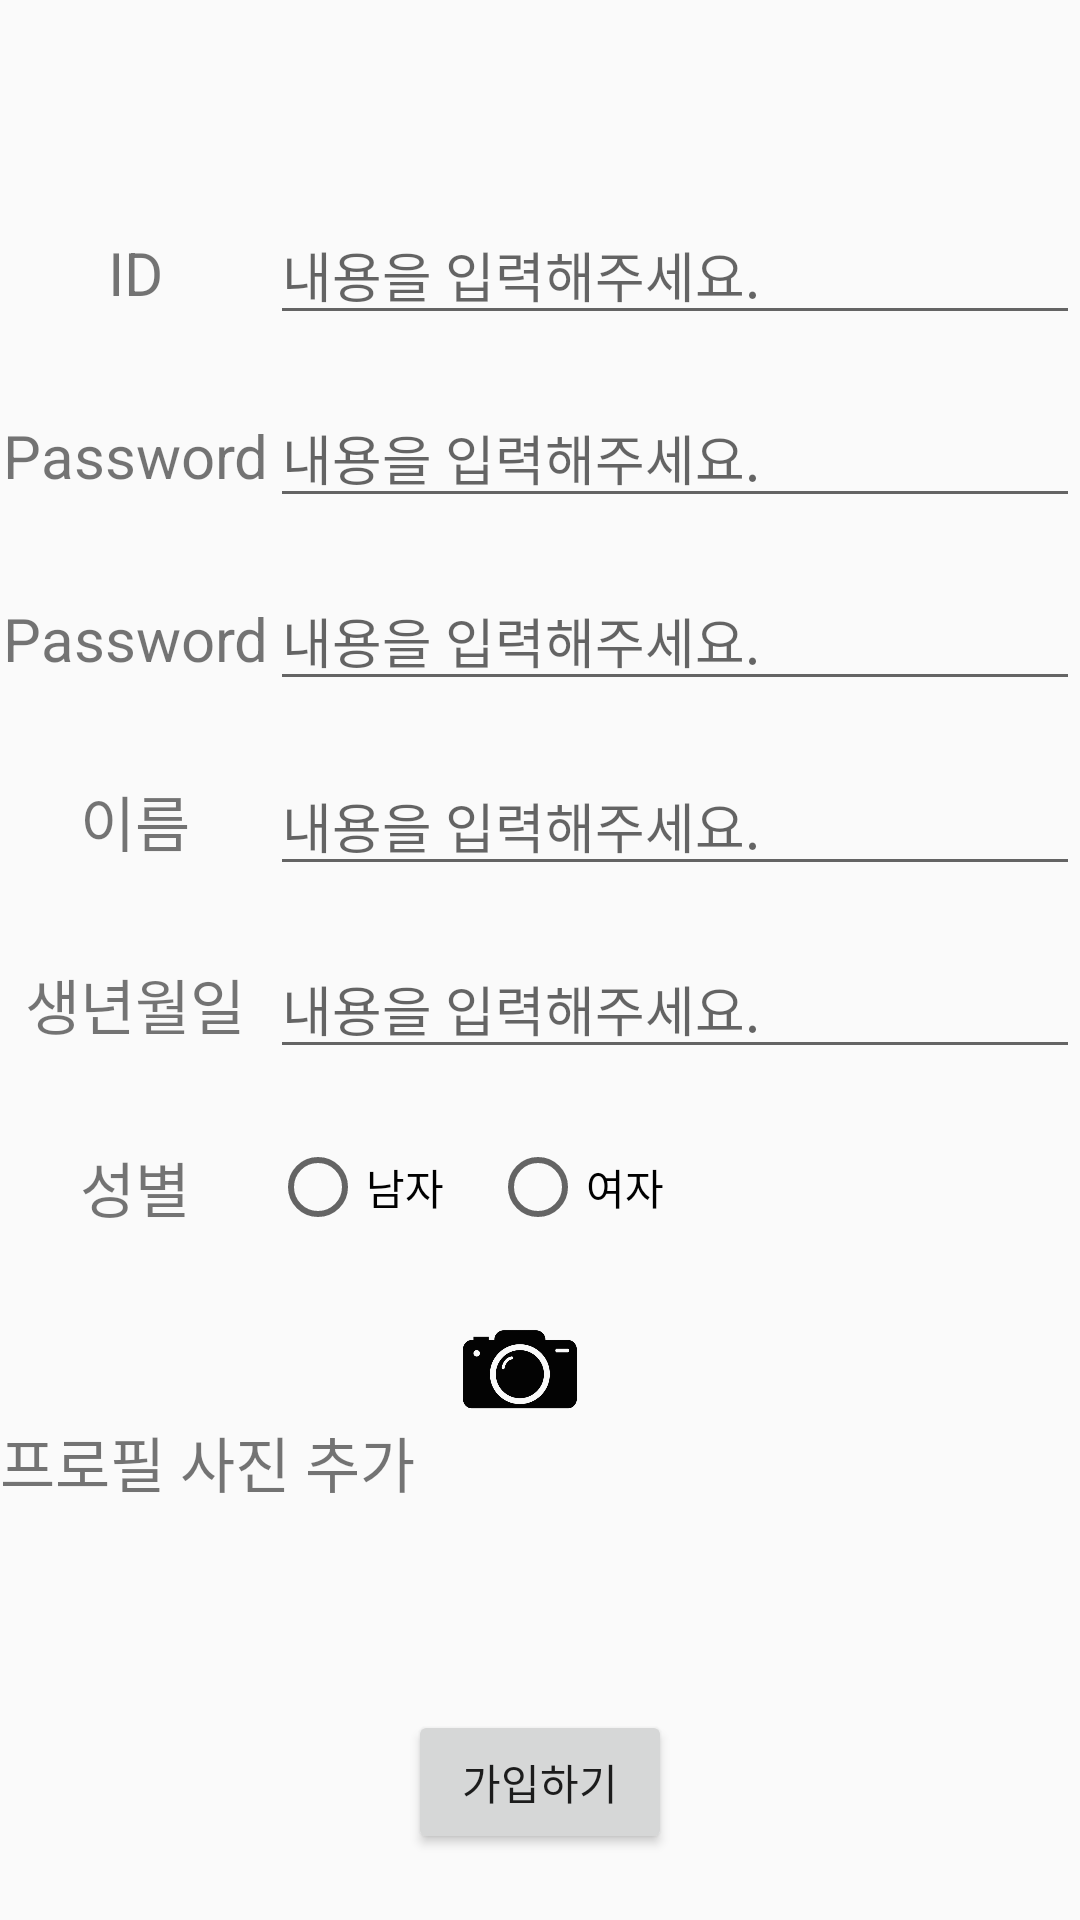

Screen size 1080*1920. Icon name, then its center in pixels as (x=x, y=y):
camera: (x=520, y=1369)
